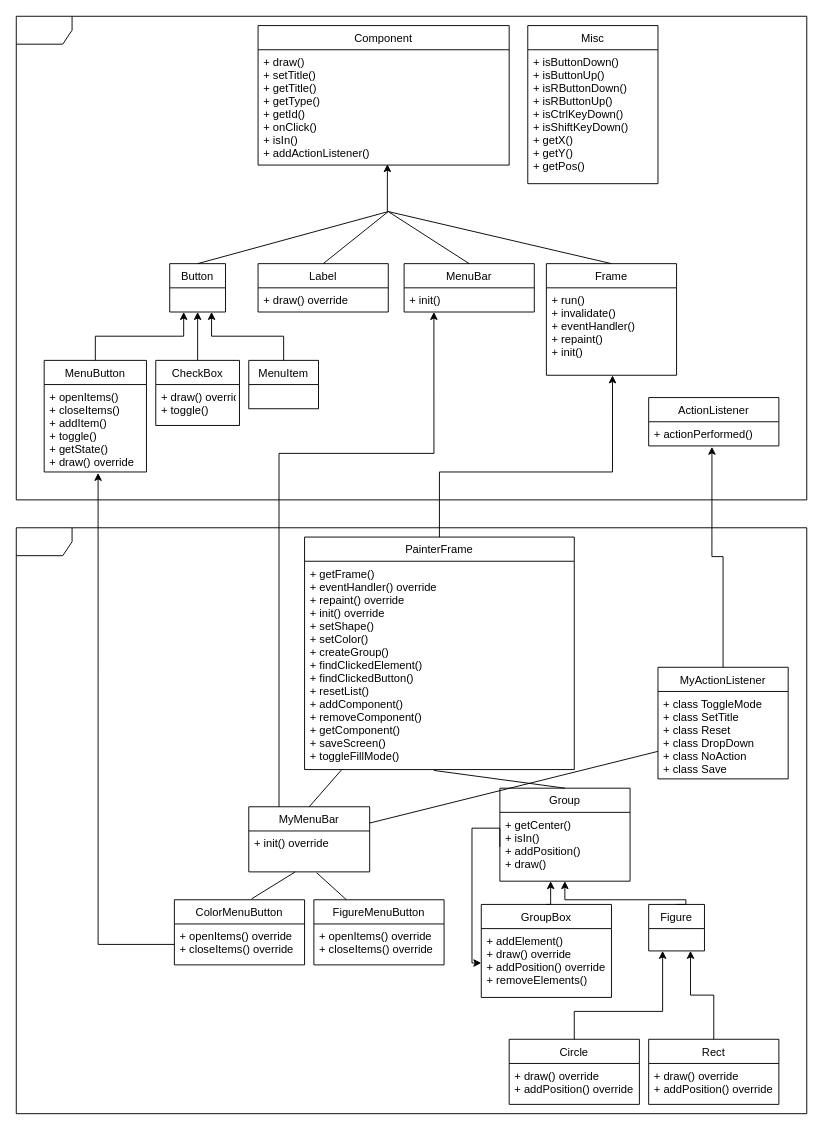
Image size: 823x1130. Some labels were removed from this diagram. The shapes that lost their labels are listed below. From the top down, each one's box as (x1, y1, x2, y2) in pixels, then its label:
(15, 15, 807, 500): MyGUILib
(15, 527, 807, 1114): Painter
